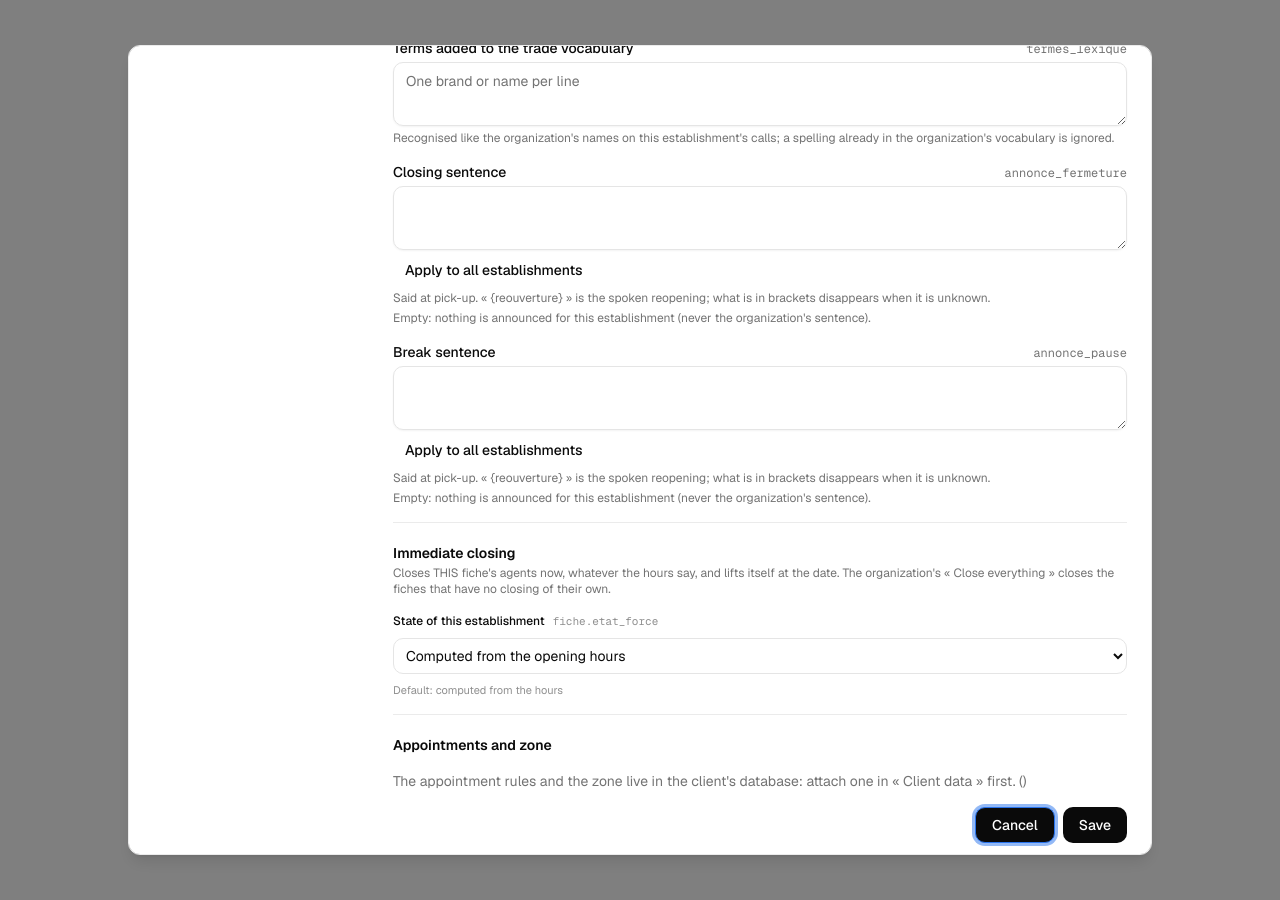
Test: [.mark] Apply to all establishments (D152) › says « nothing » when the setting is empty on the source, and Cancel sends nothing
(page scrolled)
Step 1. Click the button with test id "appliquer-a-tous-fiche-annonce_pause" → (494, 450), box left=393, top=434, right=594, bottom=466
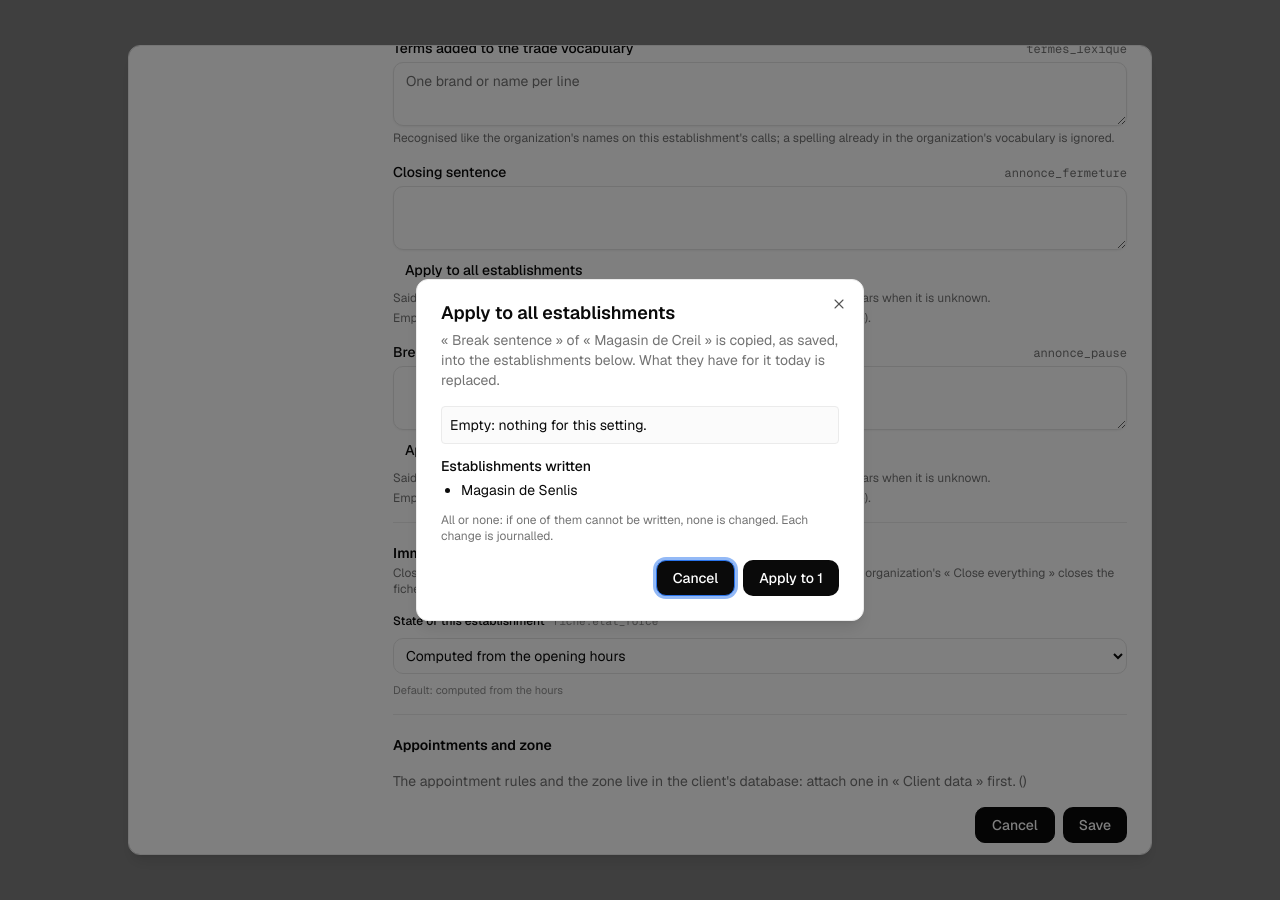
Now the text with test id "valeur-appliquee" shows "nothing", box left=450, top=416, right=646, bottom=434
Step 2. Click the button "Cancel" → (696, 578), box left=656, top=560, right=735, bottom=596
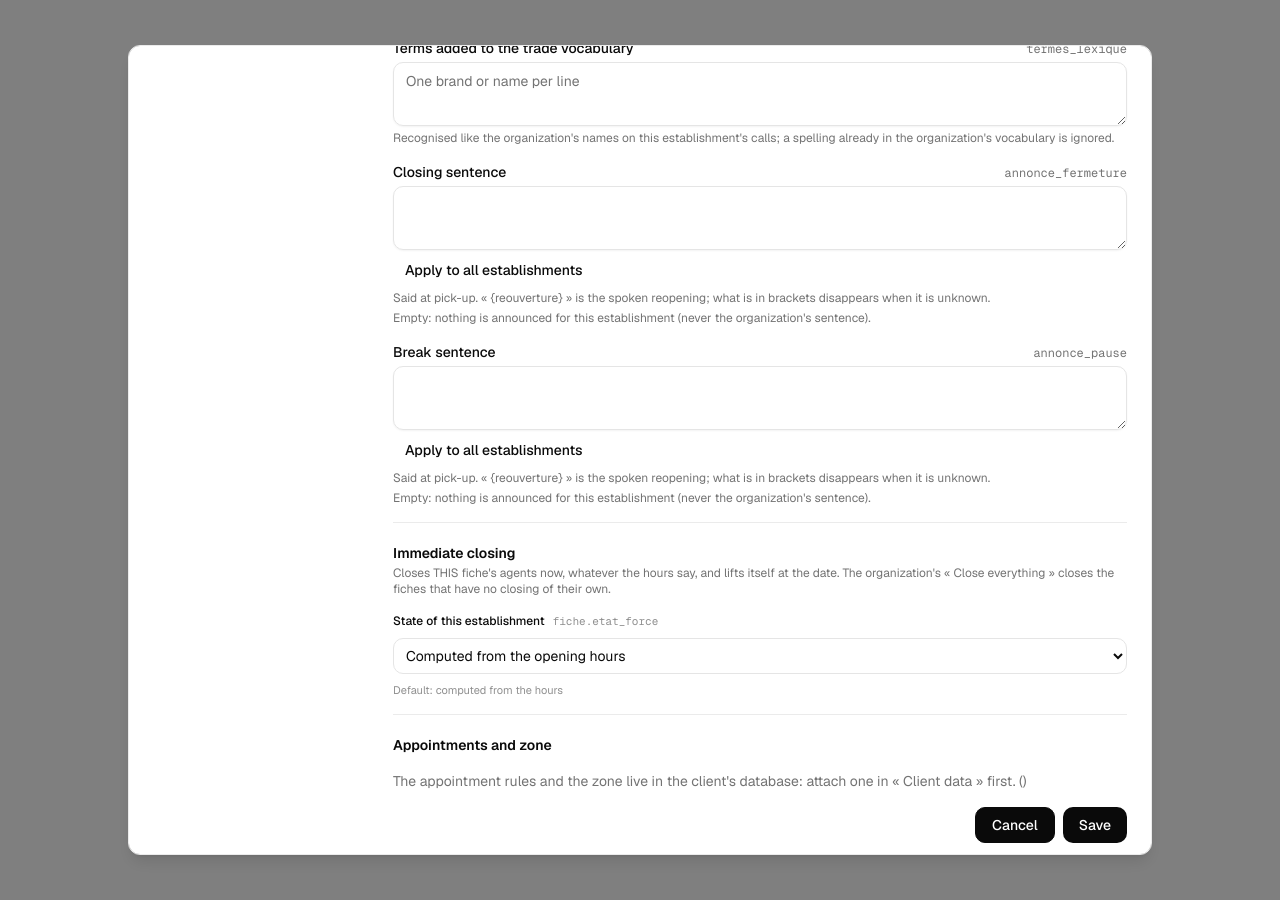
Now the dialog with test id "modale-appliquer-a-tous" is gone
